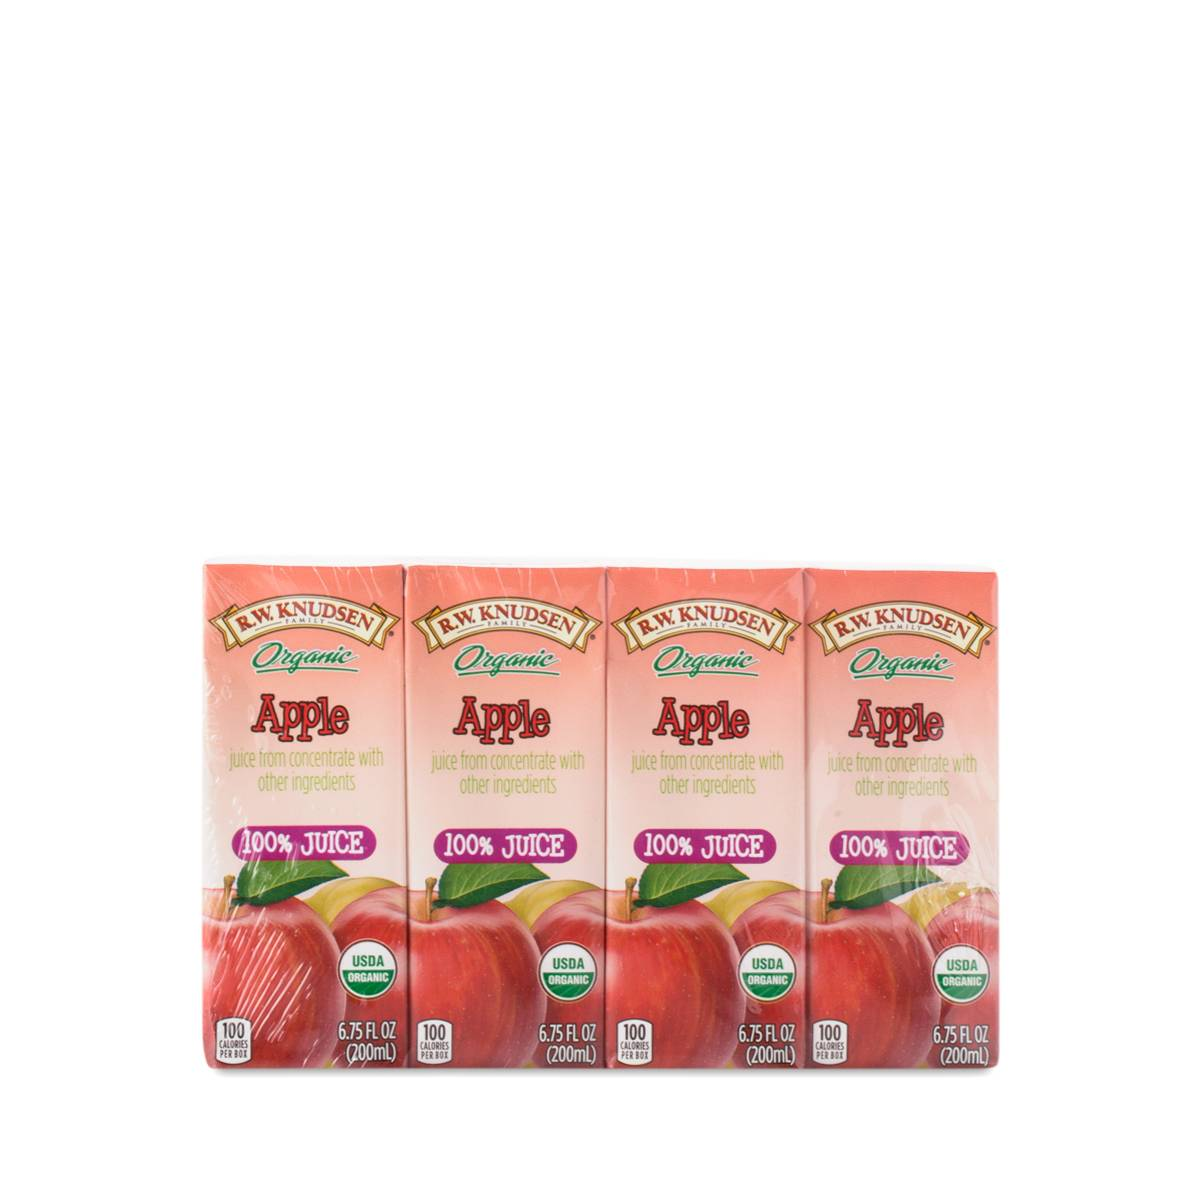Juice_Box: (603, 566, 811, 1070), (403, 560, 609, 1069), (200, 564, 405, 1070), (805, 570, 997, 1075)
